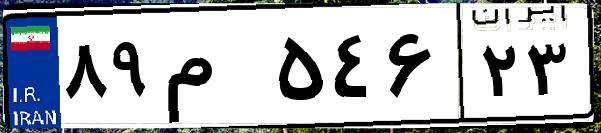2: (475, 38, 525, 113)
3: (525, 38, 570, 115)
4: (330, 28, 385, 110)
5: (270, 28, 330, 110)
6: (385, 28, 445, 110)
8: (57, 26, 110, 100)
9: (110, 28, 158, 98)
م: (158, 20, 270, 120)
